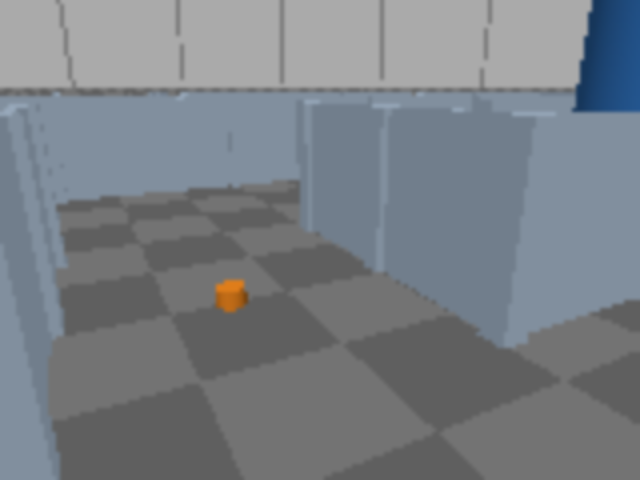person: (569, 0, 638, 237)
puck: (217, 282, 245, 309)
